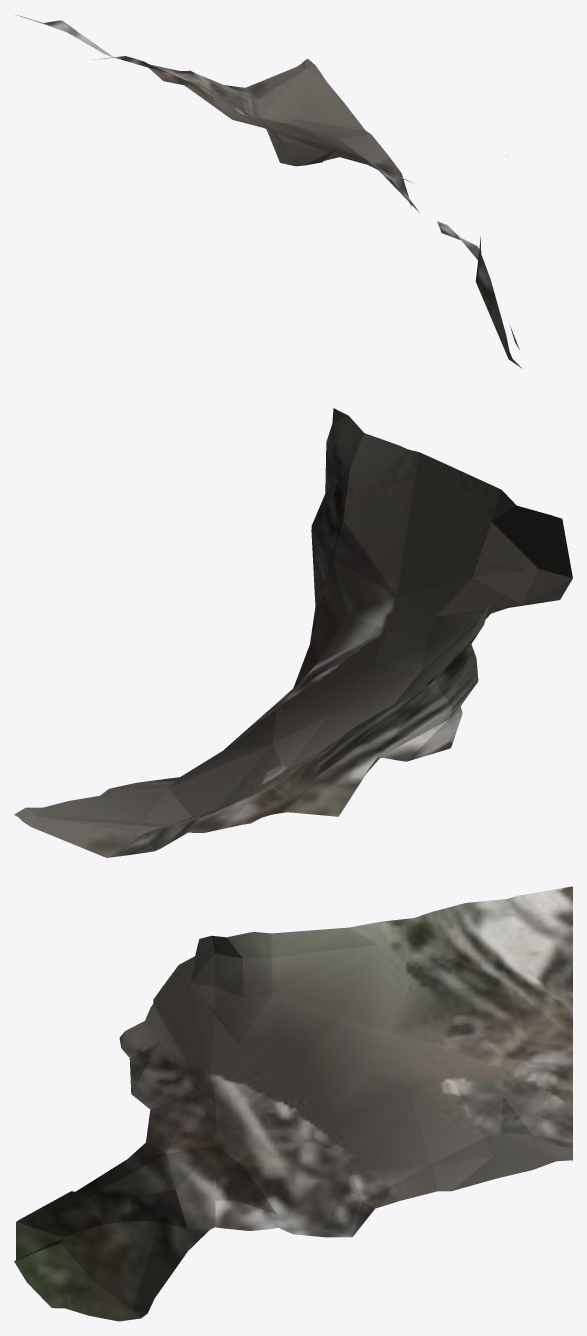
The picture shows the model from 3 angles, top to bottom: view 1: azimuth 30°, elevation 25°; view 2: azimuth 150°, elevation 25°; view 3: azimuth 270°, elevation 25°; orthographic projection. The views are drawn at different scales.
Size of the model in its own units: 0.9843 by 0.8619 by 1.54.
Materials: 1 (1 with a texture image).
